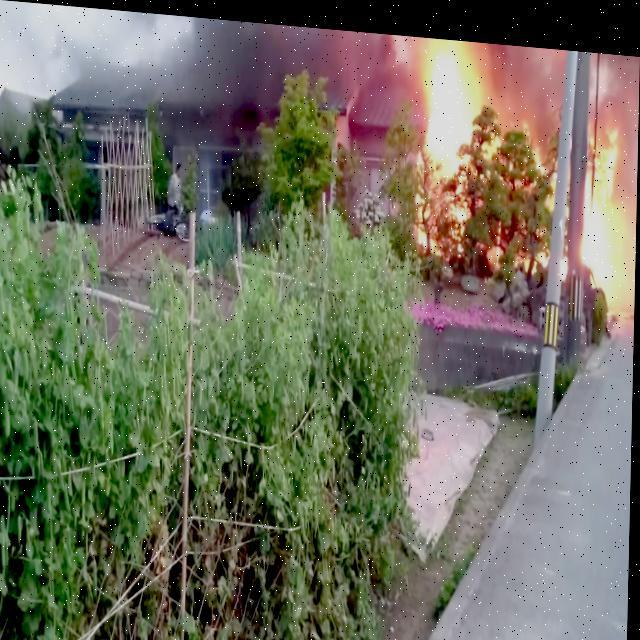Fire: (410, 31, 500, 252), (584, 116, 636, 307)
